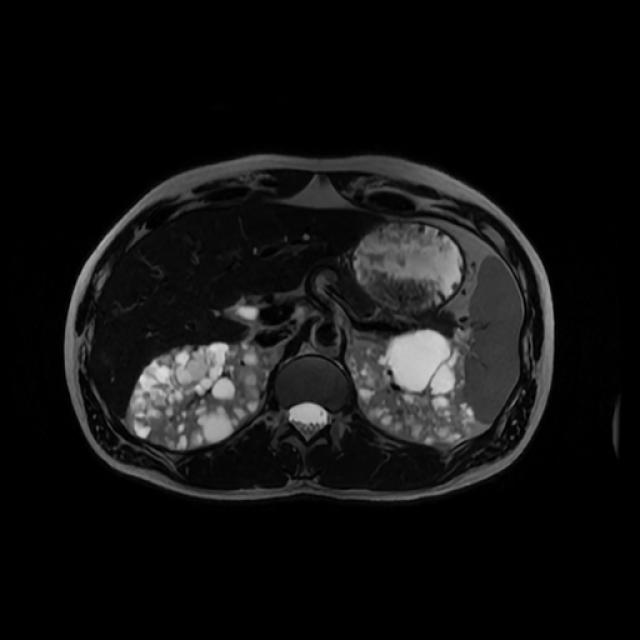sag: (131, 340, 271, 449)
sol: (349, 329, 476, 446)
